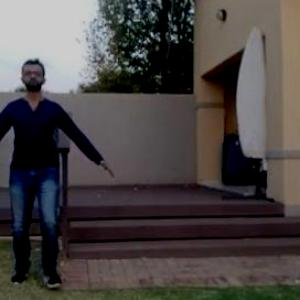land: (0, 62, 123, 292)
